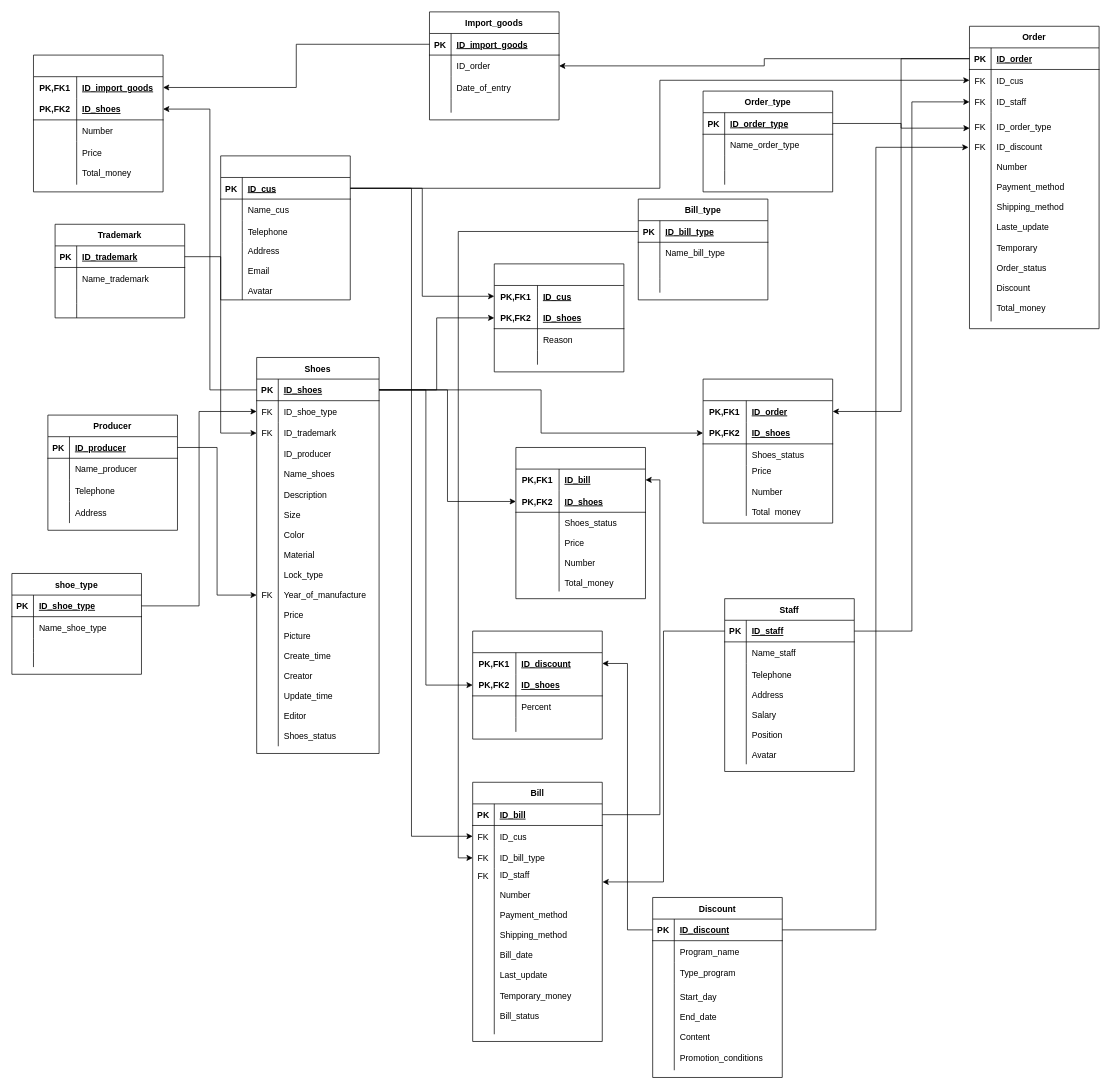
The diagram is 1111 pixels wide and 1089 high, and some of its shapes have lost their labels. The shapes that lost their labels are listed below. From the top down, each one's box as (x1, y1, x2, y2) in pixels, then its label:
(33, 54, 163, 192): Details_import_goods
(220, 155, 350, 300): Customer
(494, 263, 624, 372): Comment
(702, 378, 833, 523): Detail_order
(515, 447, 645, 599): Details_bill
(472, 630, 602, 739): Details_discount
